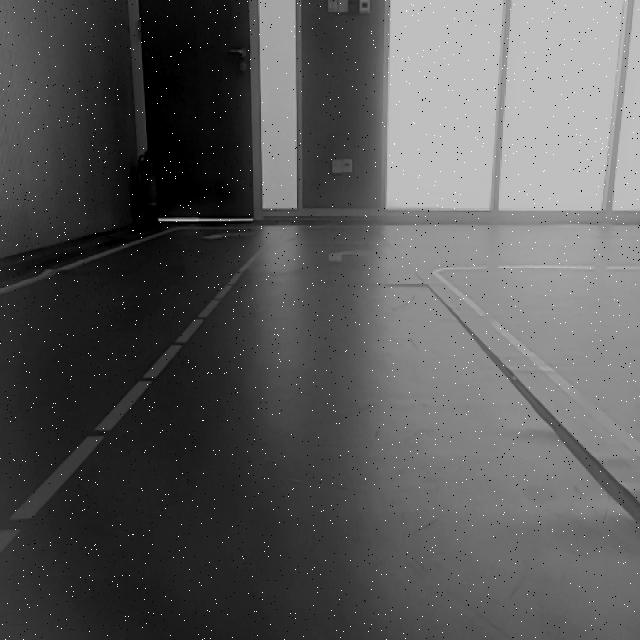left_lane: (0, 246, 269, 556)
right_lane: (428, 271, 639, 485)
